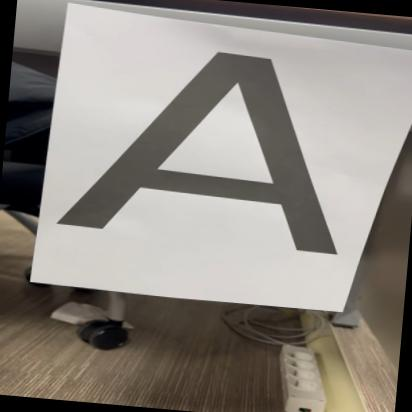seat: (50, 29, 354, 257)
